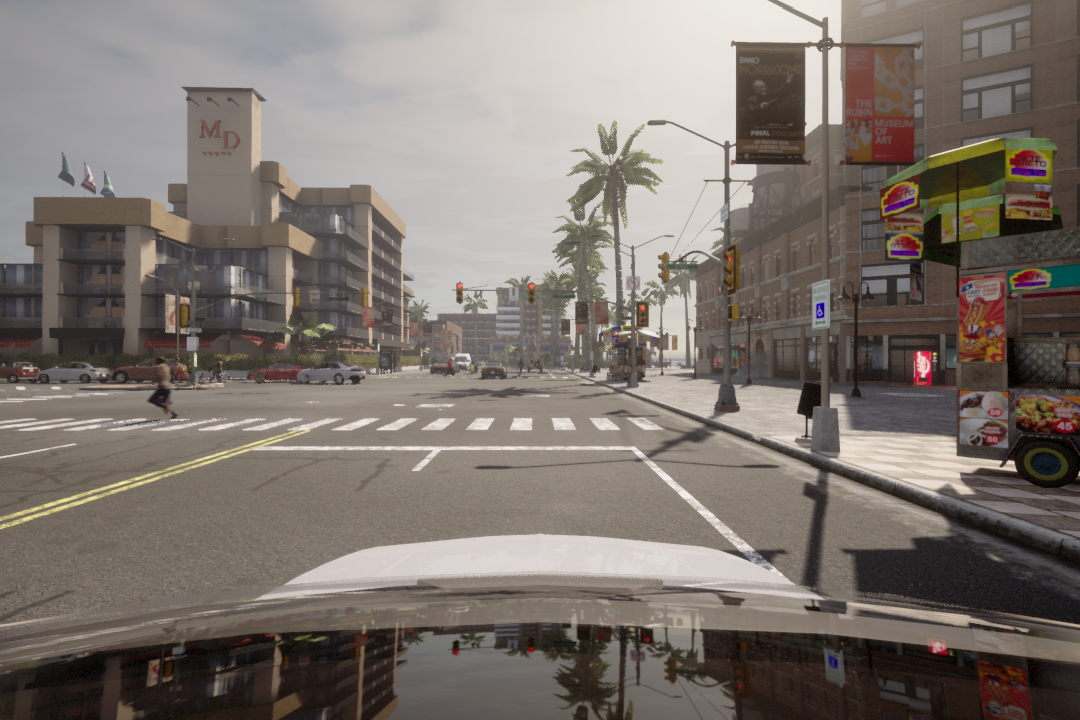TrafficLight: (722, 243, 740, 292), (452, 281, 466, 308), (658, 254, 668, 283), (639, 304, 651, 328), (527, 281, 538, 304)
TrafficSign: (627, 277, 641, 291)
walkside: (3, 417, 686, 437)
